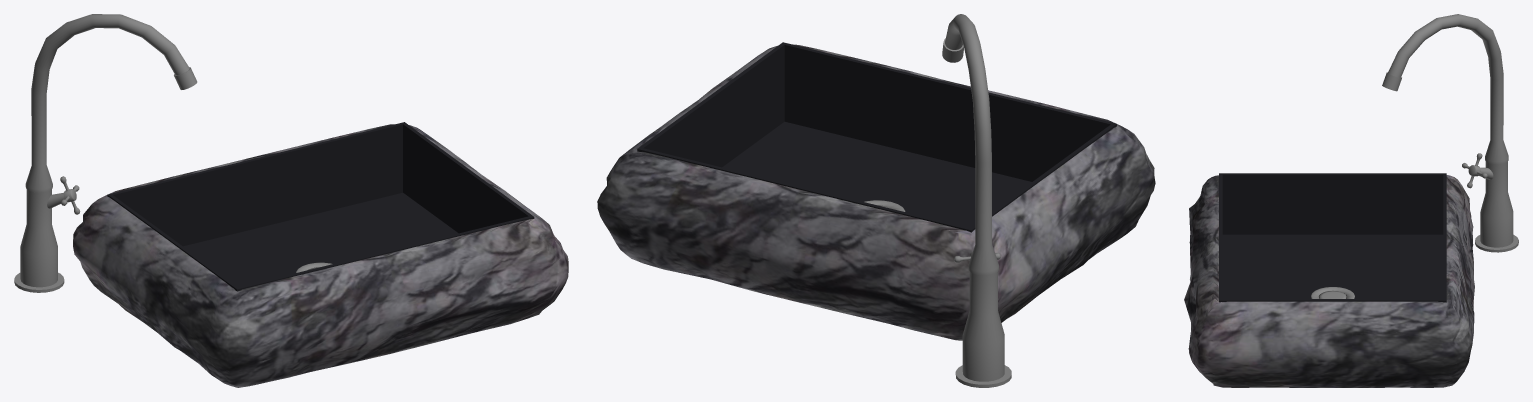
File: stone-washbasin.obj
3 renders of one model, left to right at view 1: azimuth 30°, elevation 25°; view 2: azimuth 150°, elevation 25°; view 3: azimuth 270°, elevation 25°, orthographic. The views are drawn at different scales.
Visible parts, largest first — view 1: Rock, basin, Tap; view 2: Rock, basin, Tap; view 3: Rock, basin, Tap, Stopper.
Part boxes in pixels (left/top/right/bottom): Rock: left=73, top=124, right=568, bottom=387; basin: left=107, top=122, right=534, bottom=291; Tap: left=14, top=14, right=197, bottom=292; Rock: left=597, top=44, right=1155, bottom=340; basin: left=637, top=42, right=1116, bottom=232; Tap: left=942, top=14, right=1011, bottom=387; Rock: left=1184, top=175, right=1474, bottom=387; basin: left=1219, top=173, right=1446, bottom=302; Tap: left=1382, top=14, right=1518, bottom=252; Stopper: left=1311, top=287, right=1354, bottom=298.
Size of the model in its own units: 53.73 by 36.82 by 45.51.
Materials: 6 (1 with a texture image).
